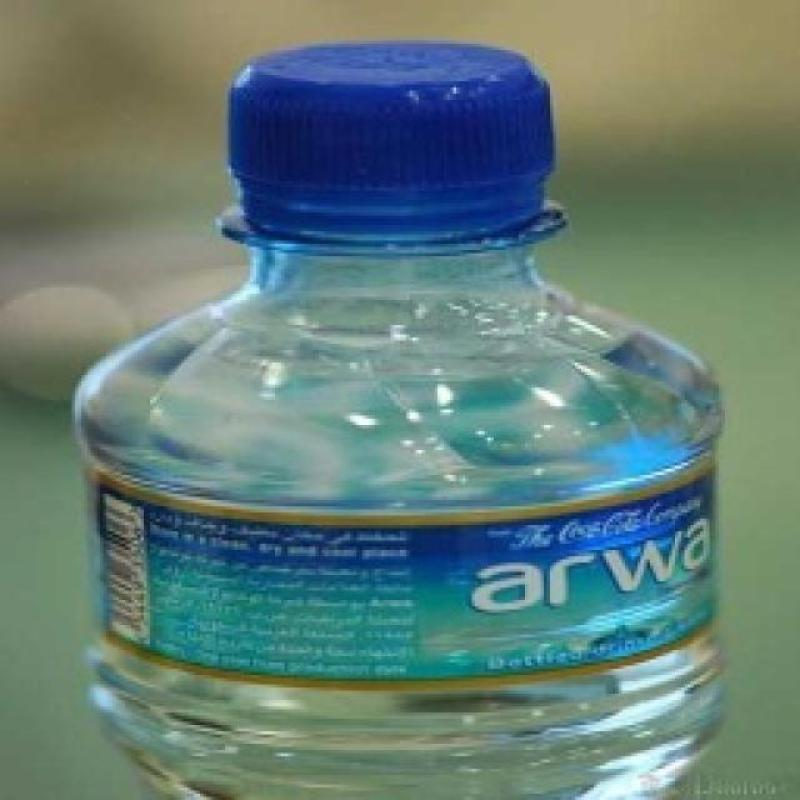botella: (66, 37, 722, 800)
